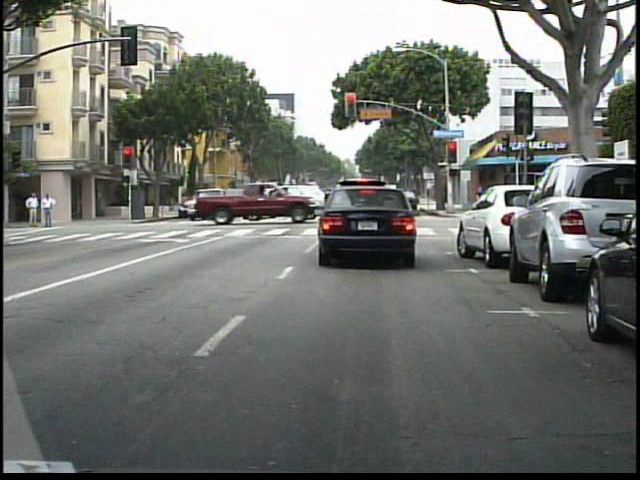person: (21, 189, 38, 230), (39, 191, 56, 231)
